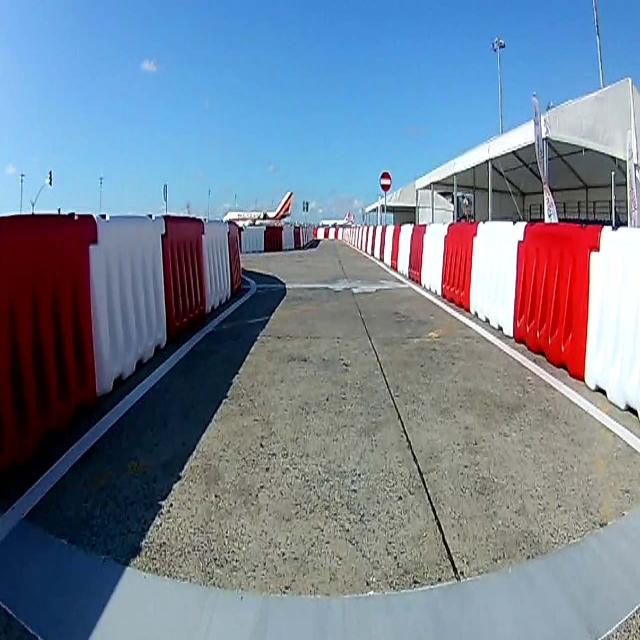girisyok: (378, 170, 392, 192)
